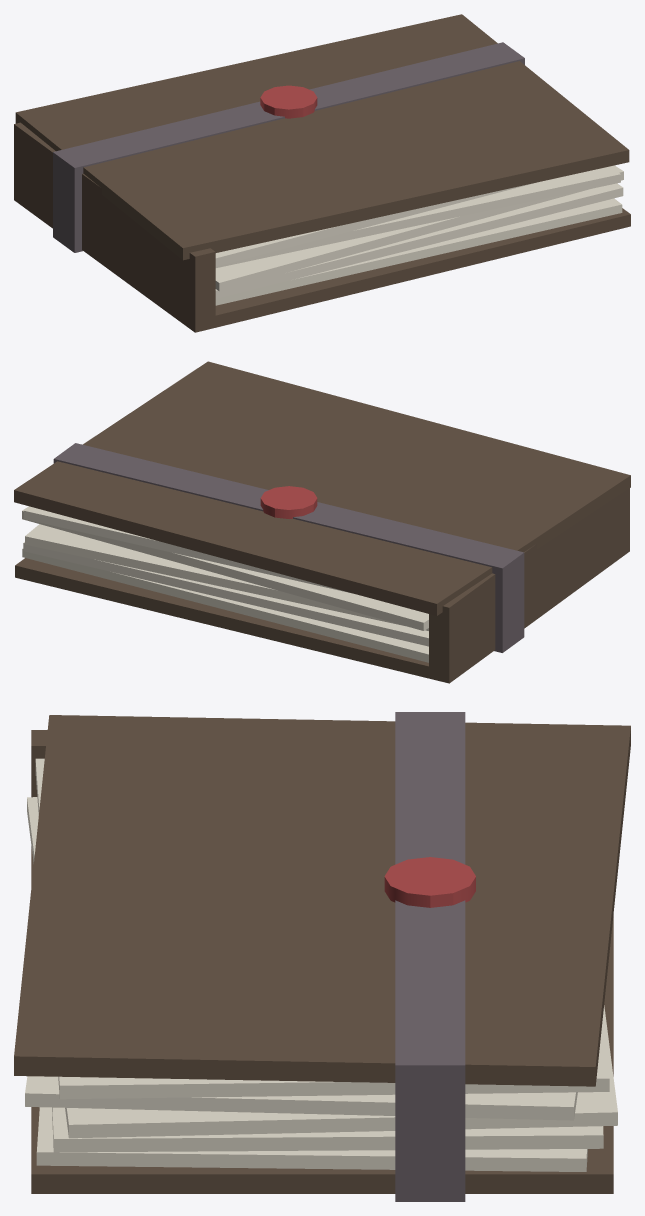
The model's file is Loot_SafeDocument.fbx.
3 renders of one model, top to bottom at view 1: azimuth 30°, elevation 25°; view 2: azimuth 150°, elevation 25°; view 3: azimuth 270°, elevation 25°, orthographic. The views are drawn at different scales.
Visible parts, largest first — view 1: Loot_SafeDocument; view 2: Loot_SafeDocument; view 3: Loot_SafeDocument.
Part boxes in pixels (x1=…): Loot_SafeDocument: x1=14, y1=14, x2=630, y2=332; Loot_SafeDocument: x1=14, y1=361, x2=630, y2=683; Loot_SafeDocument: x1=14, y1=712, x2=630, y2=1201.
Size of the model in its own units: 31 by 6.1 by 22.89.
